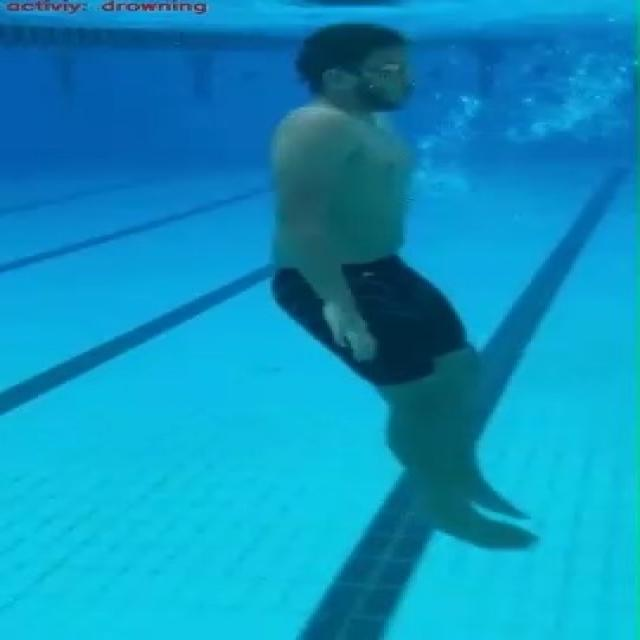Drowning: (256, 21, 548, 554)
